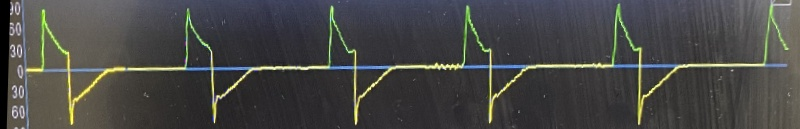normal_flow: (29, 0, 759, 129)
